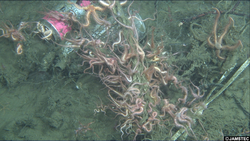fishing net: (76, 1, 173, 139)
